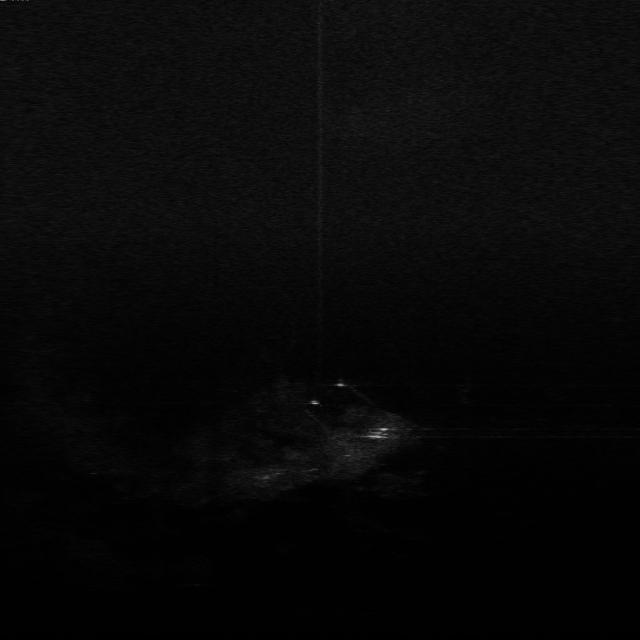rov: (364, 425, 394, 442)
